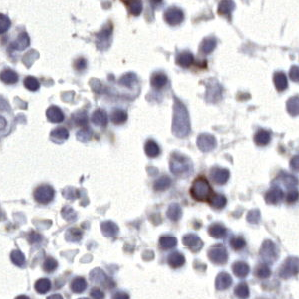Lymphocyte: (189, 174, 215, 201)
